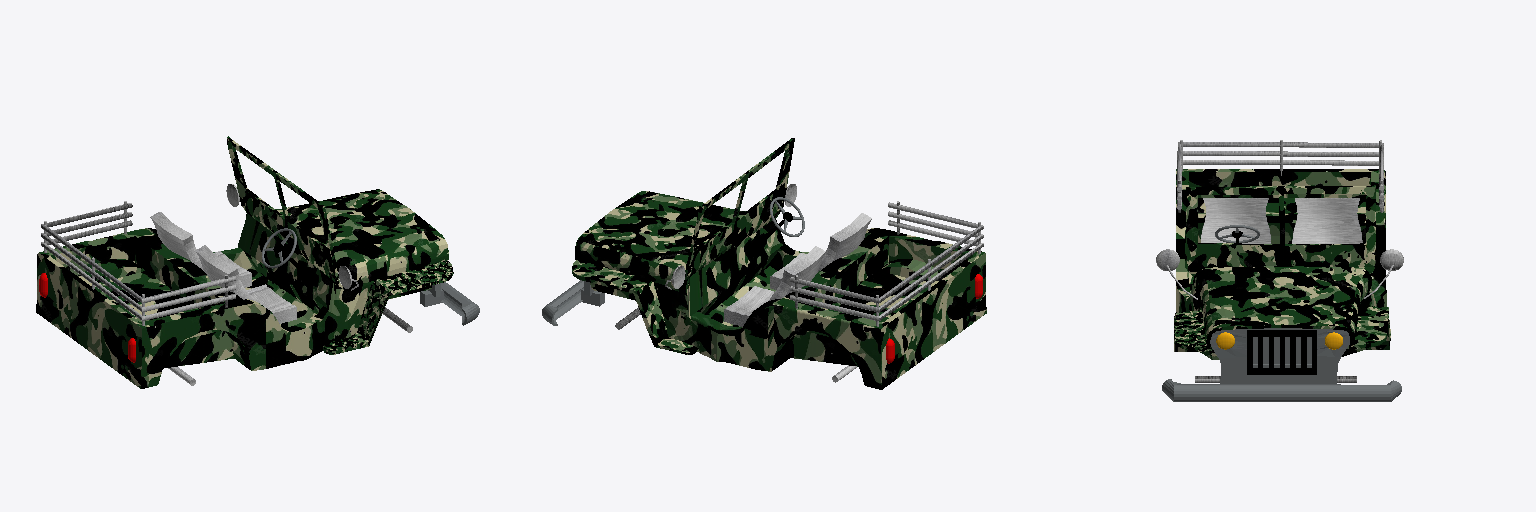
3 views of the same model, side by side, from view 1: azimuth 30°, elevation 25°; view 2: azimuth 150°, elevation 25°; view 3: azimuth 270°, elevation 25° (orthographic).
Visible parts, largest first — view 1: Carroceria; view 2: Carroceria; view 3: Carroceria.
Part boxes in pixels (x1,y1,x2,y2): Carroceria: (36, 136, 479, 388); Carroceria: (542, 138, 986, 389); Carroceria: (1156, 140, 1403, 401).
Size of the model in its own units: 48.58 by 21.62 by 30.5.
Materials: 6 (6 with a texture image).